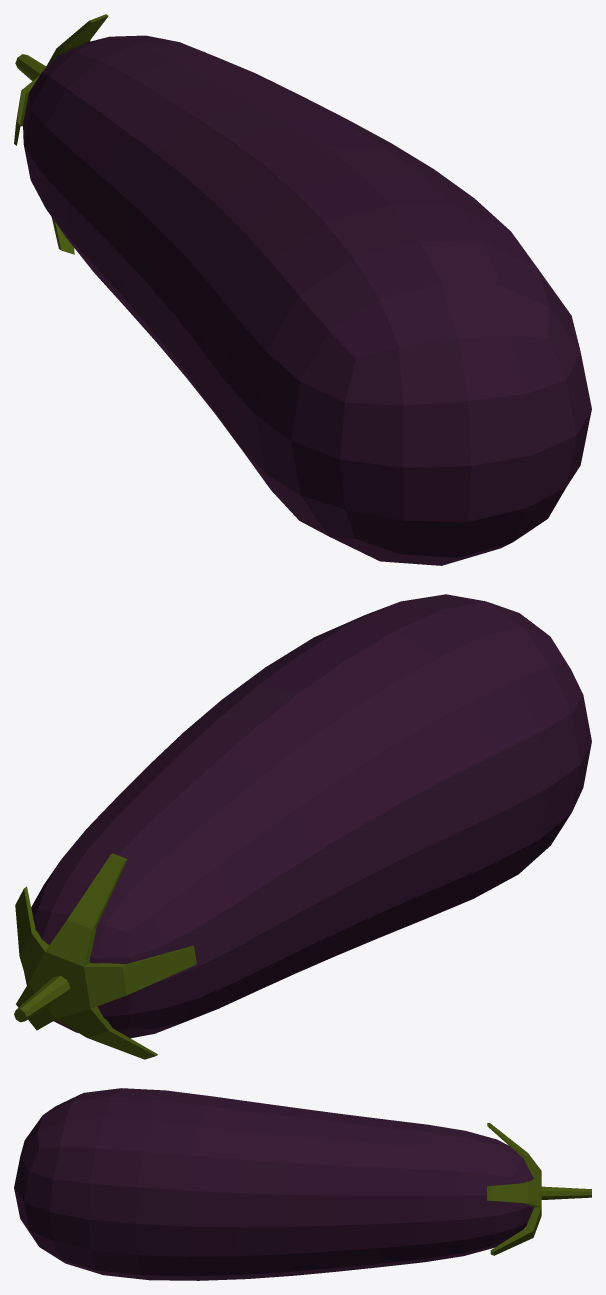
File: Eggplant.fbx
3 renders of one model, top to bottom at view 1: azimuth 30°, elevation 25°; view 2: azimuth 150°, elevation 25°; view 3: azimuth 270°, elevation 25°, orthographic. The views are drawn at different scales.
Parts seen in each view (by area): view 1: Eggplant; view 2: Eggplant; view 3: Eggplant.
Boxes of the visible parts, x1=… form: Eggplant: x1=14, y1=14, x2=591, y2=565; Eggplant: x1=14, y1=594, x2=591, y2=1059; Eggplant: x1=14, y1=1088, x2=591, y2=1280.
Size of the model in its own units: 22.12 by 21.07 by 64.67.
